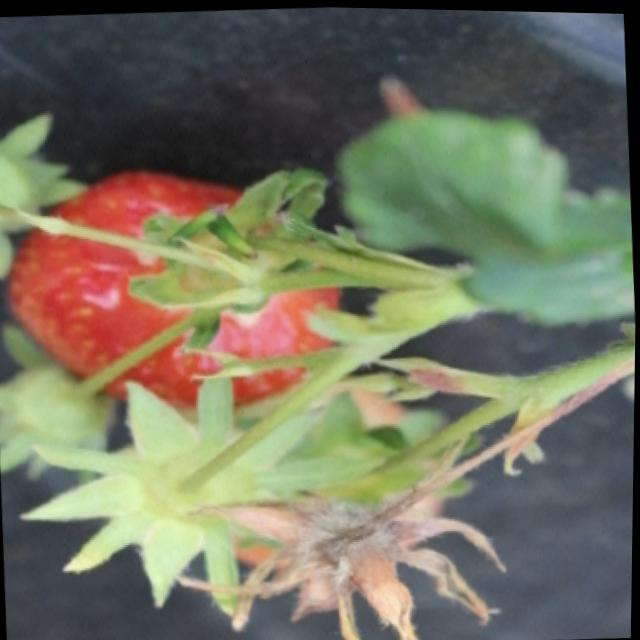Gray Mold: (178, 488, 510, 640)
